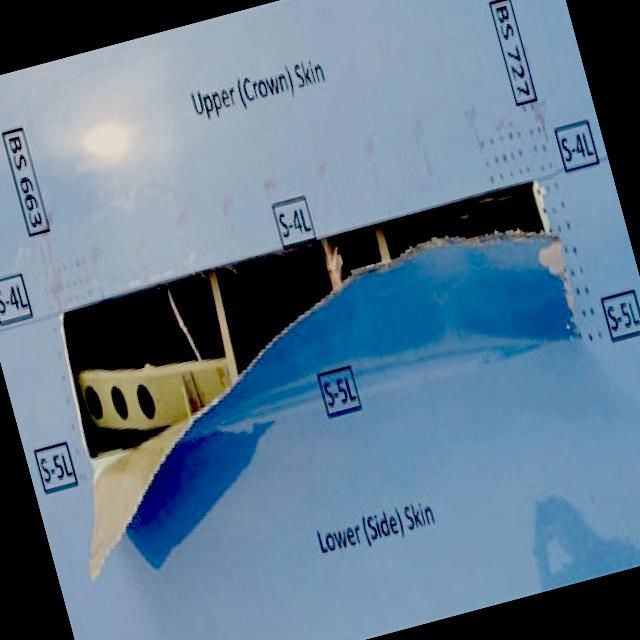crack: (16, 178, 620, 594)
